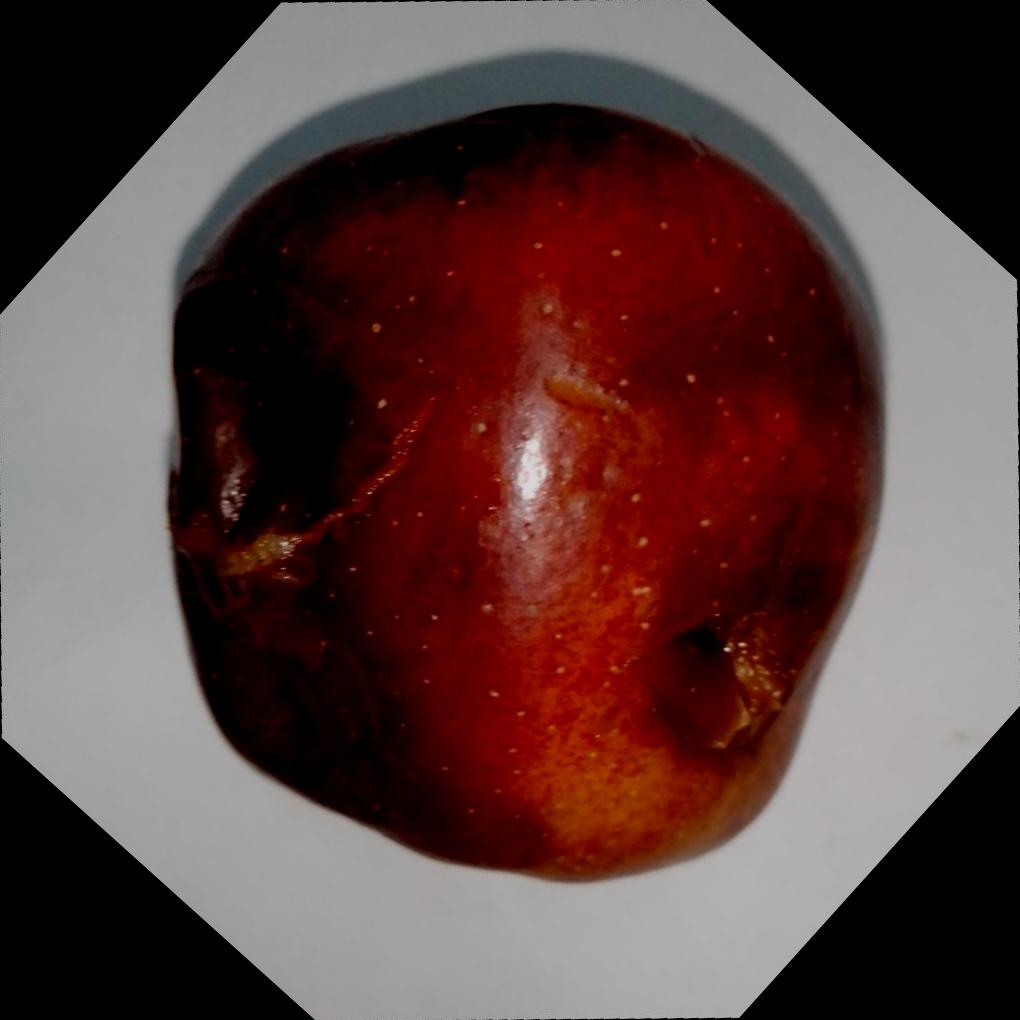FreshOrange: (158, 96, 886, 888)
